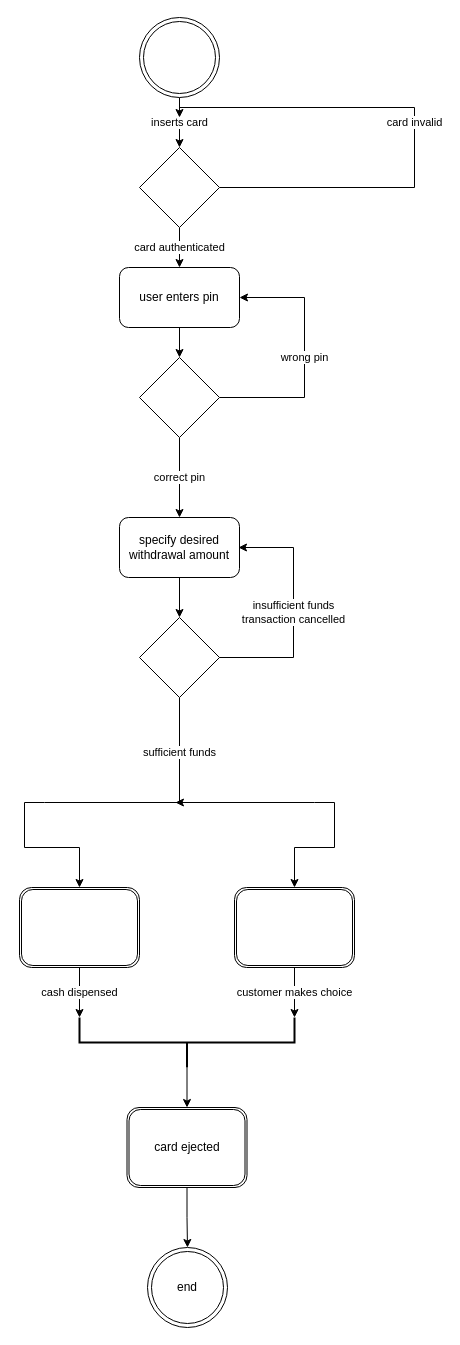
This 460x1345 diagram has some shape labels left out. Each missing label, with the centre of its shape:
"atm counts and dispenses the cash" goes at point 79,927.
"system asks if they wanted a printed receipt/report" goes at point 294,927.
